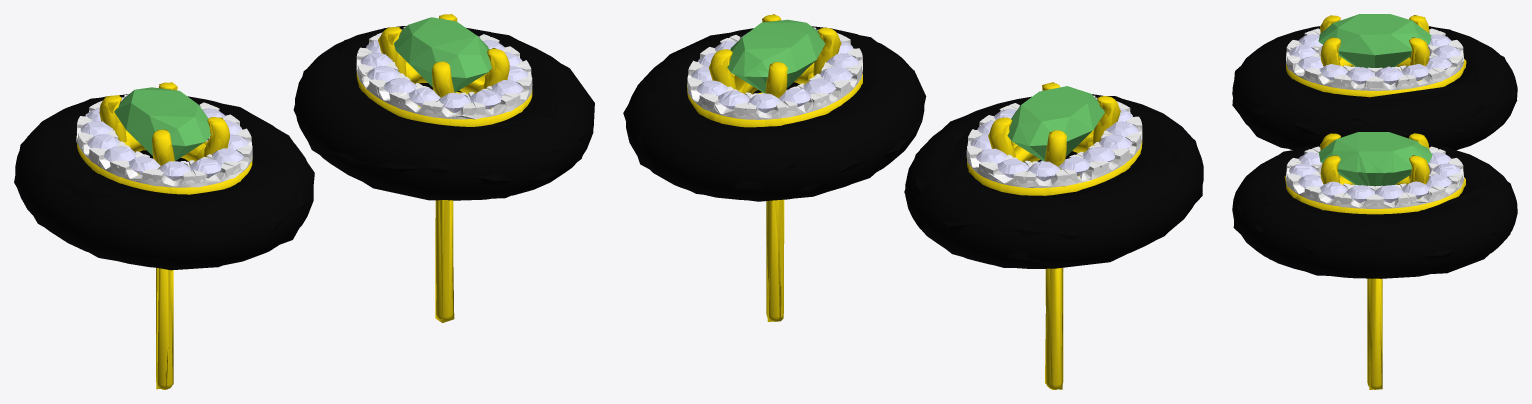
File: DTPN-D000677450.glb
3 renders of one model, left to right at view 1: azimuth 30°, elevation 25°; view 2: azimuth 150°, elevation 25°; view 3: azimuth 270°, elevation 25°, orthographic. The views are drawn at different scales.
Parts seen in each view (by area): view 1: highPolyMesh, lowPolyMesh; view 2: highPolyMesh, lowPolyMesh; view 3: highPolyMesh, lowPolyMesh.
Boxes of the visible parts, bbox=[...] form: highPolyMesh: bbox=[15, 14, 593, 389]; lowPolyMesh: bbox=[14, 14, 594, 389]; highPolyMesh: bbox=[626, 15, 1203, 389]; lowPolyMesh: bbox=[623, 14, 1202, 389]; highPolyMesh: bbox=[1232, 14, 1517, 389]; lowPolyMesh: bbox=[1232, 15, 1517, 389].
Bounding box in the file's own units: 0.0278 × 0.0144 × 0.015.
